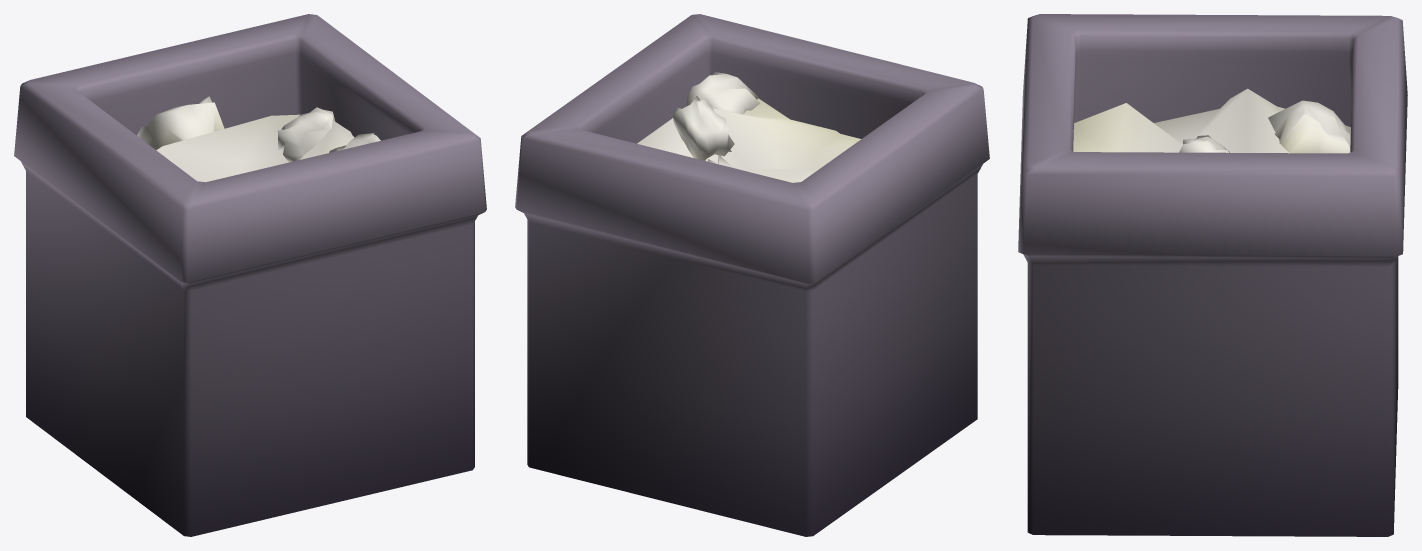
Rendered from mesh_trash_can_002.fbx.
3 renders of one model, left to right at view 1: azimuth 30°, elevation 25°; view 2: azimuth 150°, elevation 25°; view 3: azimuth 270°, elevation 25°, orthographic. The views are drawn at different scales.
Parts seen in each view (by area): view 1: trash_detail; view 2: trash_detail; view 3: trash_detail.
Boxes of the visible parts, x1,y1,x2,y2 form: trash_detail: (14, 14, 486, 536); trash_detail: (515, 14, 989, 536); trash_detail: (1018, 14, 1407, 536).
Bounding box in the file's own units: 77.87 × 80.85 × 77.87.
